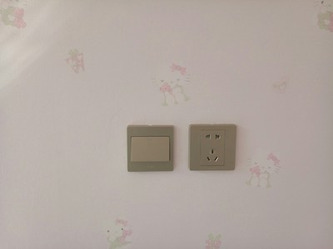switch: (127, 129, 174, 167)
